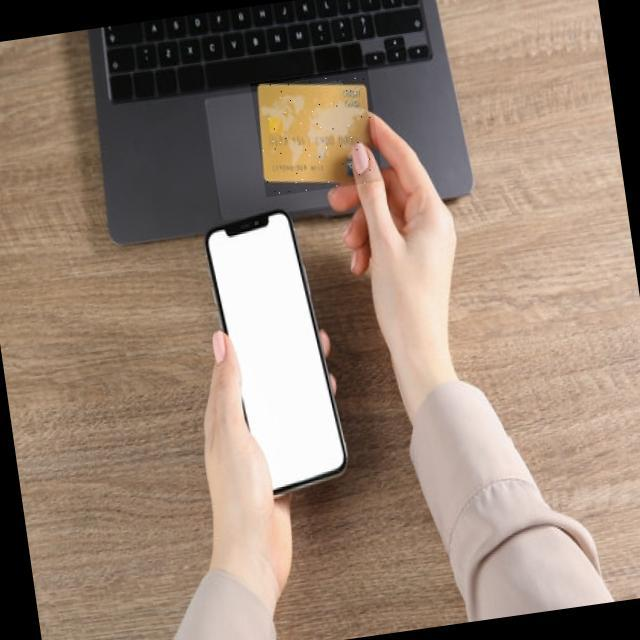payment_card: (255, 81, 370, 186)
